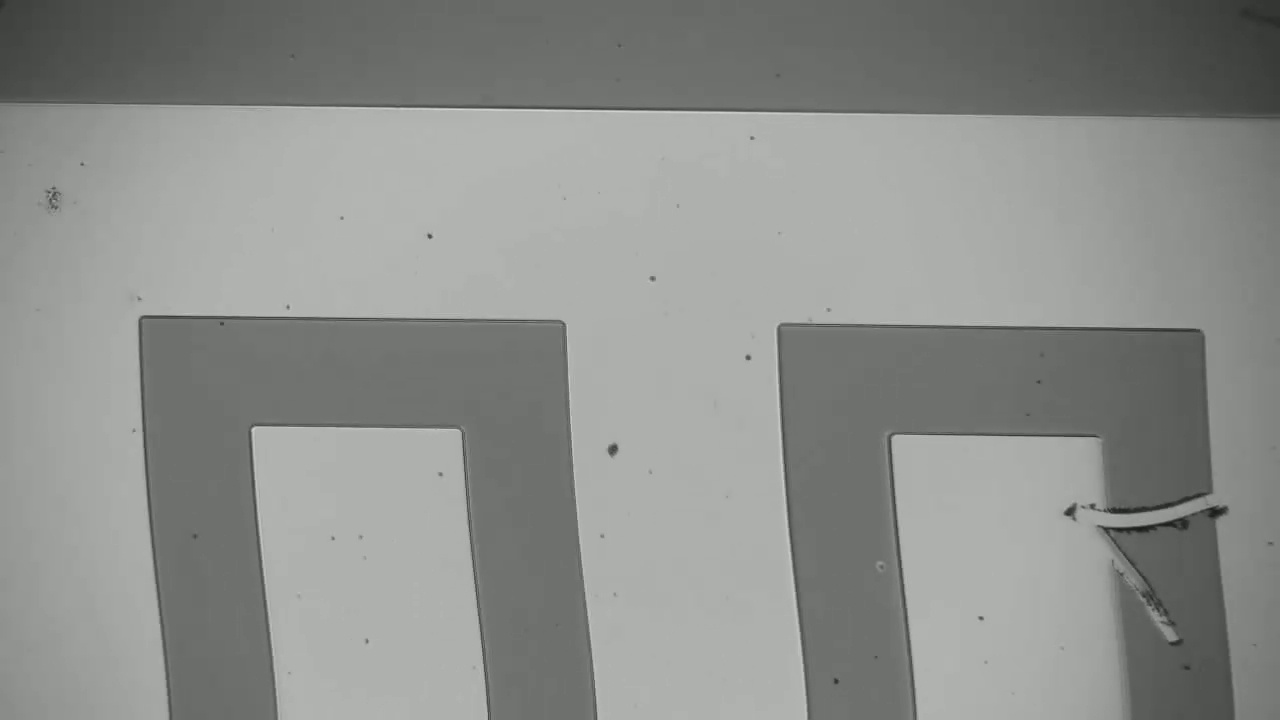Short_circuit: (1066, 473, 1246, 565)
